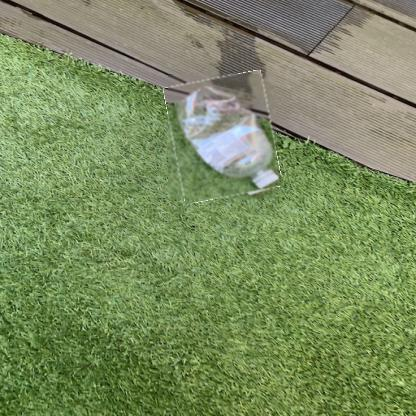plastic-bottles: (168, 74, 277, 200)
